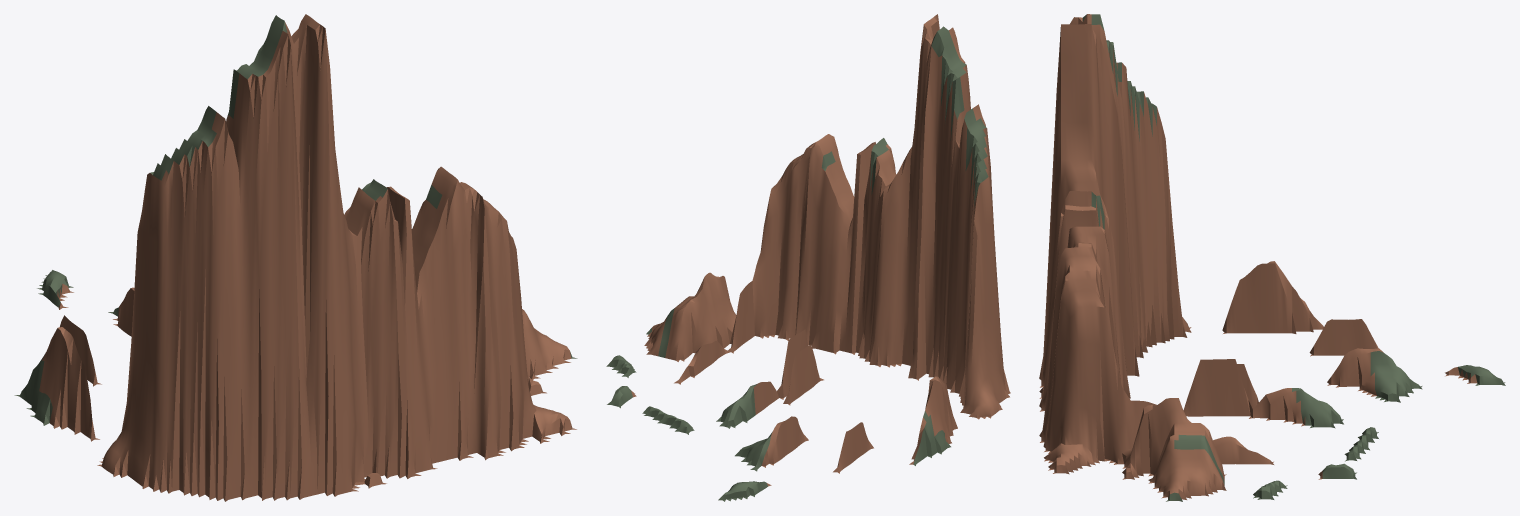
Rendered from fulgora-sunk-ruin-big.glb.
3 views of the same model, side by side, from view 1: azimuth 30°, elevation 25°; view 2: azimuth 150°, elevation 25°; view 3: azimuth 270°, elevation 25° (orthographic). The views are drawn at different scales.
Visible parts, largest first — view 1: body; view 2: body; view 3: body.
Boxes of the visible parts, x1=… form: body: x1=14, y1=14, x2=577, y2=501; body: x1=606, y1=14, x2=1010, y2=501; body: x1=1039, y1=14, x2=1505, y2=501.
Size of the model in its own units: 6.06 by 5.65 by 6.69.
